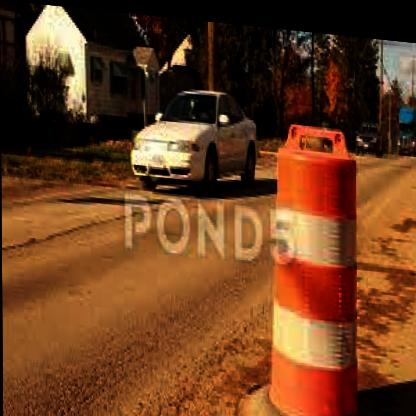obstacle: (270, 114, 364, 416)
